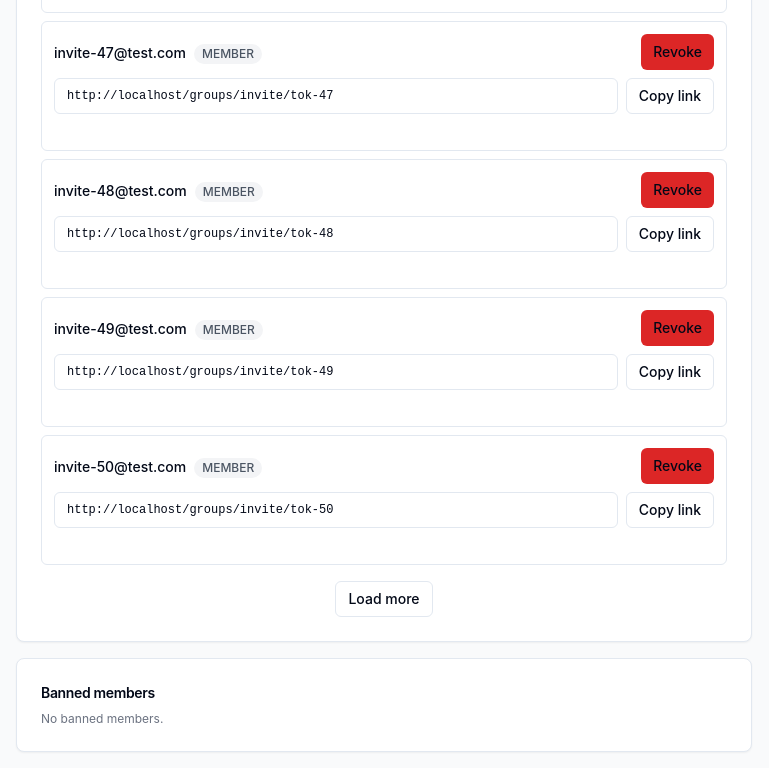
Test: GroupDetailPage › pending invite pagination › makes every pending invite — including the 101st — reachable across pages
(page scrolled)
Click the button "Load more".
click(384, 599)  # box [335, 581, 432, 617]
(page scrolled)
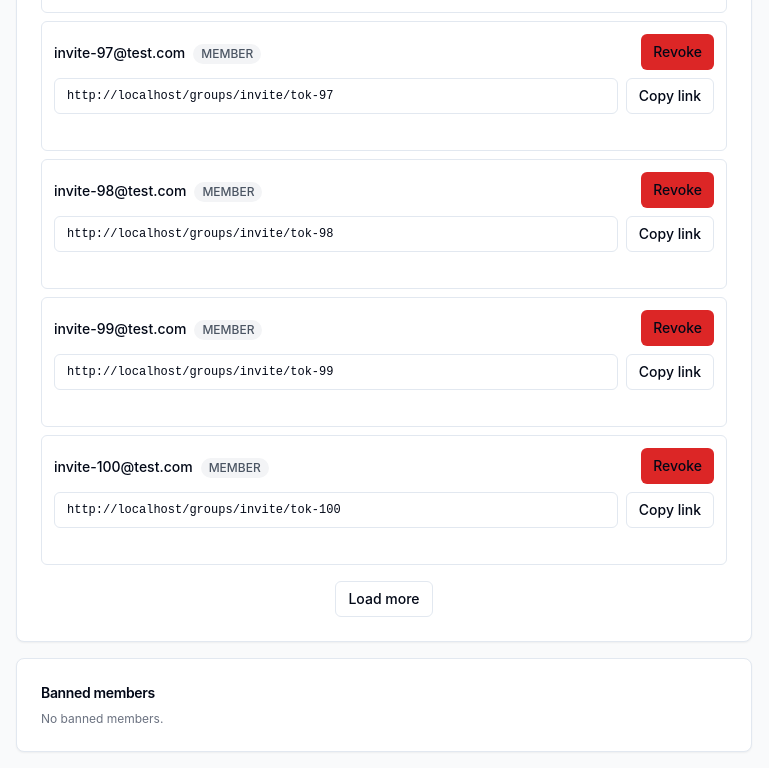
Expected: the text "invite-101@test.com" is not shown
Click the button "Load more".
click(384, 599)  # box [335, 581, 432, 617]
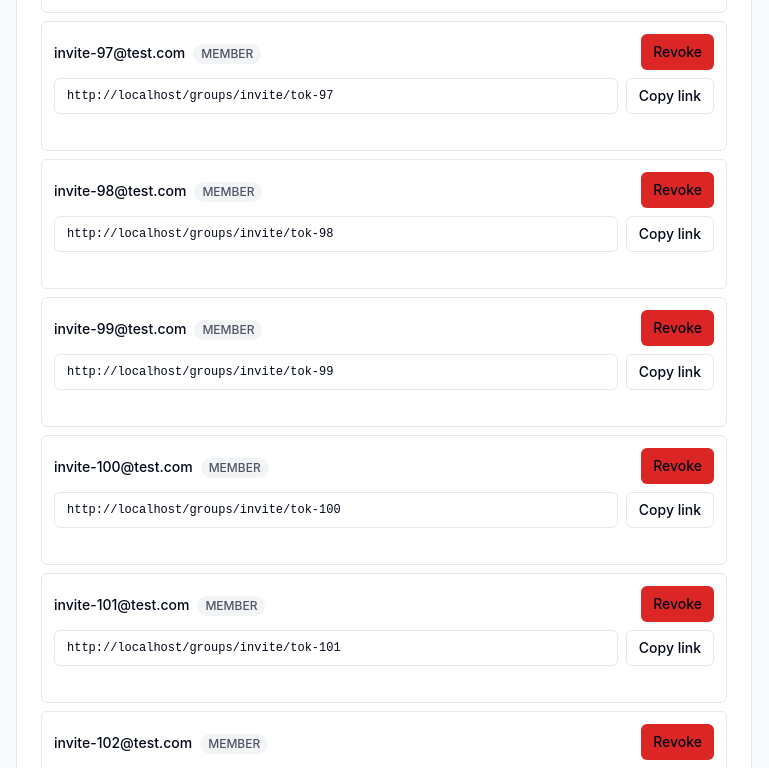
Result: the text "invite-101@test.com" is shown at [54, 596, 189, 613]
Result: the button "Load more" is gone
